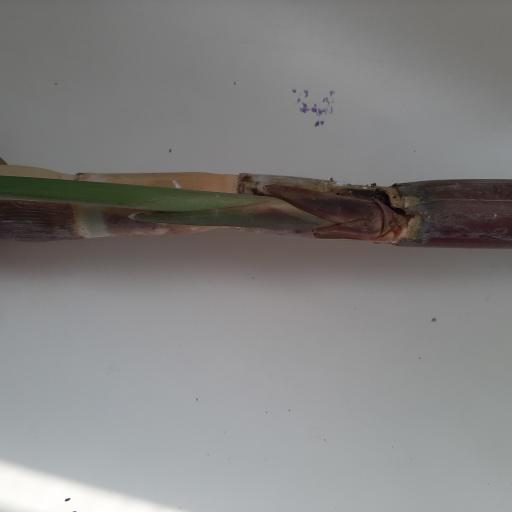Sprouted_Bud: (320, 210, 397, 239)
